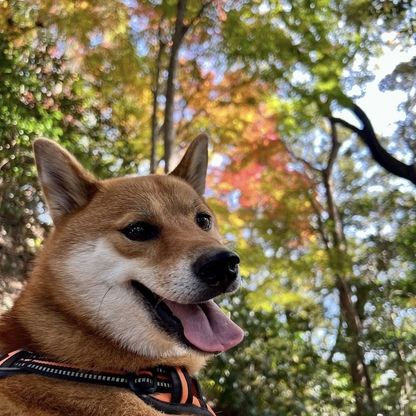shiba: (1, 123, 251, 416)
